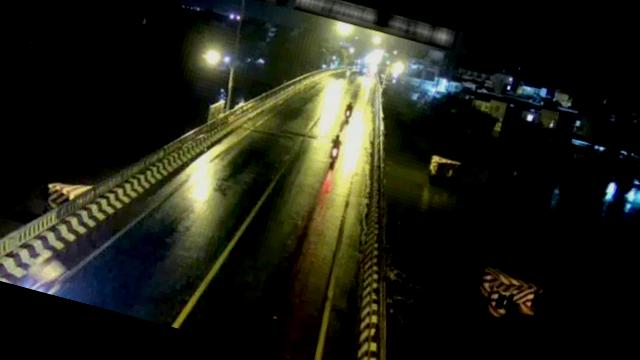Bike: (324, 130, 344, 163), (341, 98, 358, 120)
